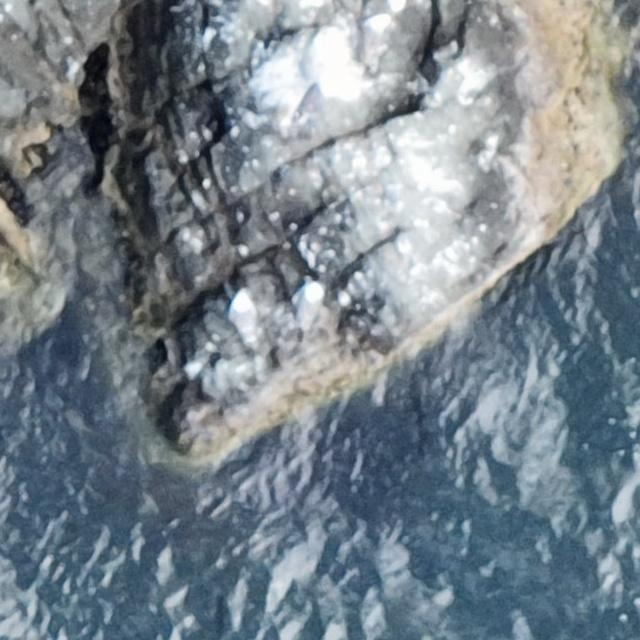umineko: (361, 13, 394, 58), (232, 289, 257, 345), (297, 280, 326, 324)
